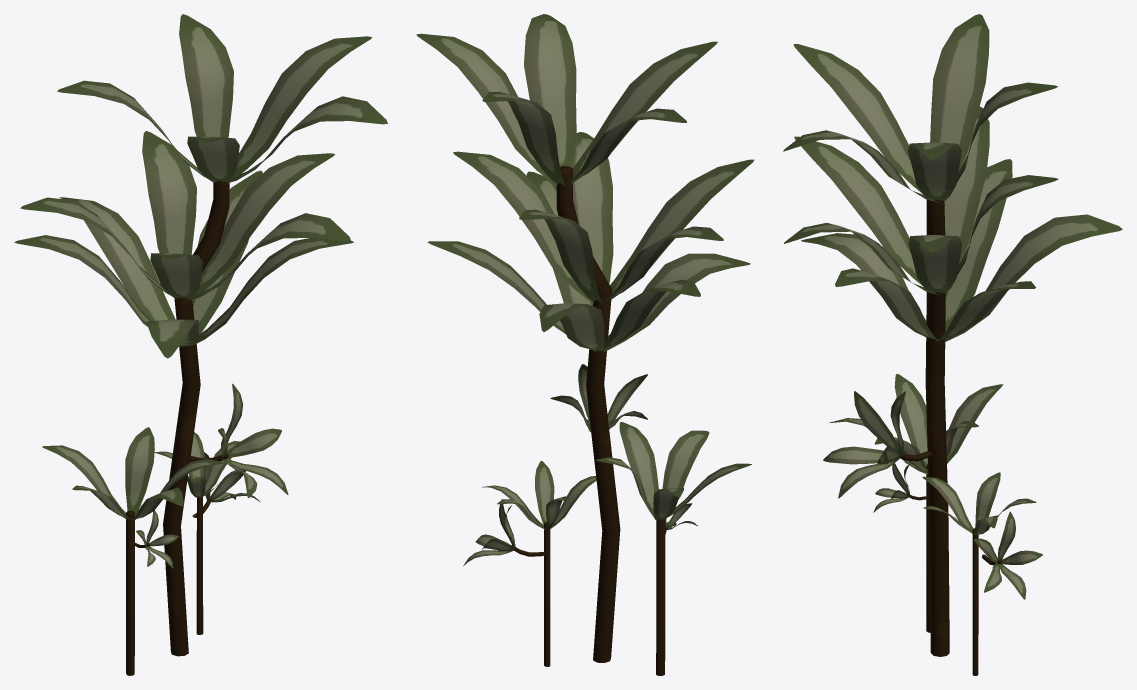
The model's file is Veg_PlantaMaceta6.fbx.
3 views of the same model, side by side, from view 1: azimuth 30°, elevation 25°; view 2: azimuth 150°, elevation 25°; view 3: azimuth 270°, elevation 25° (orthographic). The views are drawn at different scales.
Visible parts, largest first — view 1: PLANTA 1; view 2: PLANTA 1; view 3: PLANTA 1.
Boxes of the visible parts, x1,y1,x2,y2 form: PLANTA 1: (14,14,387,675); PLANTA 1: (416,14,754,675); PLANTA 1: (783,14,1122,675).
Size of the model in its own units: 30.01 by 34.4 by 58.61.
